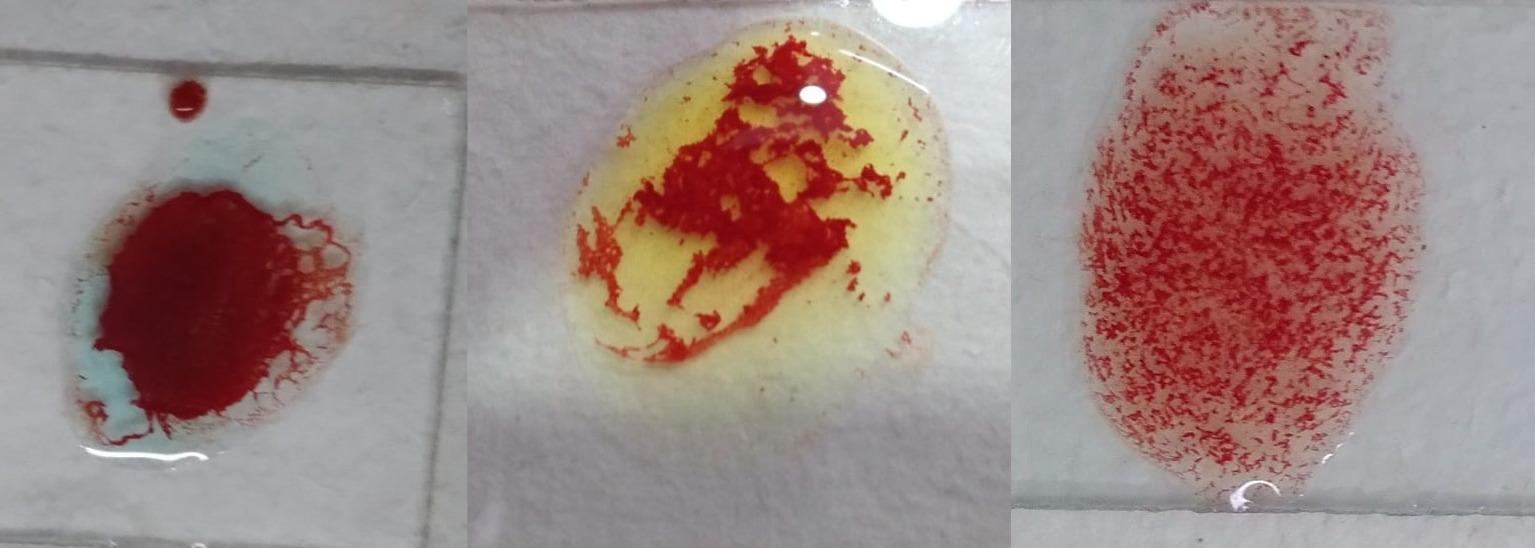A: (59, 150, 353, 465)
B: (586, 19, 937, 397)
D: (1086, 17, 1409, 487)
